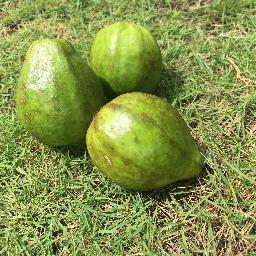Good_guava: (80, 82, 212, 192), (21, 32, 101, 152), (96, 19, 160, 87)
